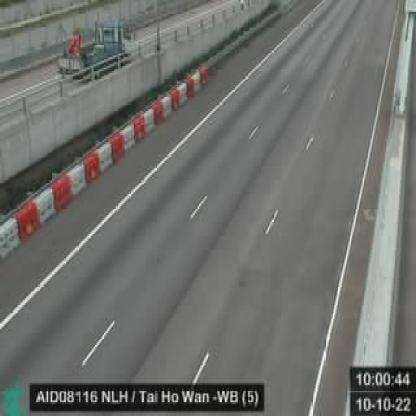Truck: (57, 17, 130, 81)
